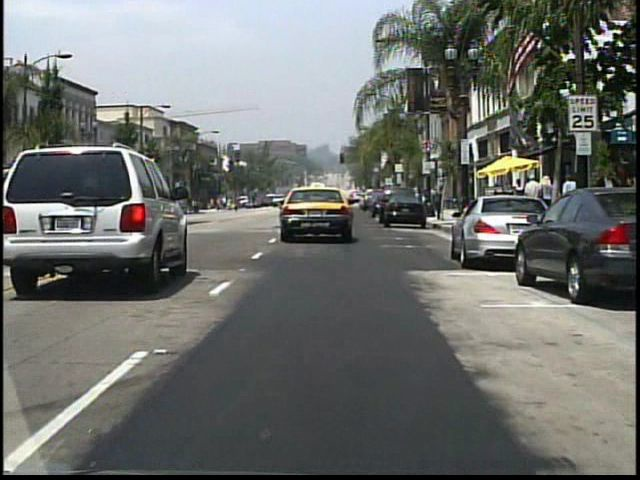person: (594, 163, 620, 240), (524, 174, 545, 225), (559, 173, 579, 222), (539, 175, 558, 222), (511, 178, 527, 218), (252, 192, 260, 208)
